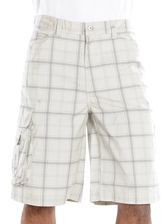clothoes: (14, 12, 157, 209)
